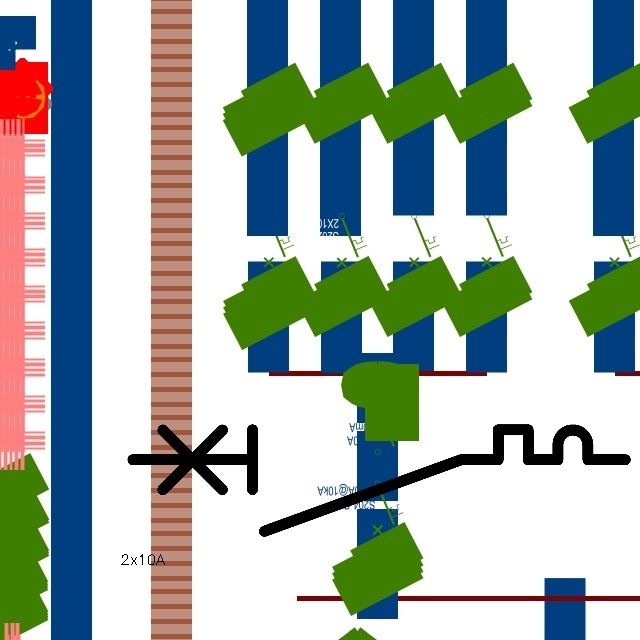interruptor_termomagnetico: (120, 417, 638, 544)
